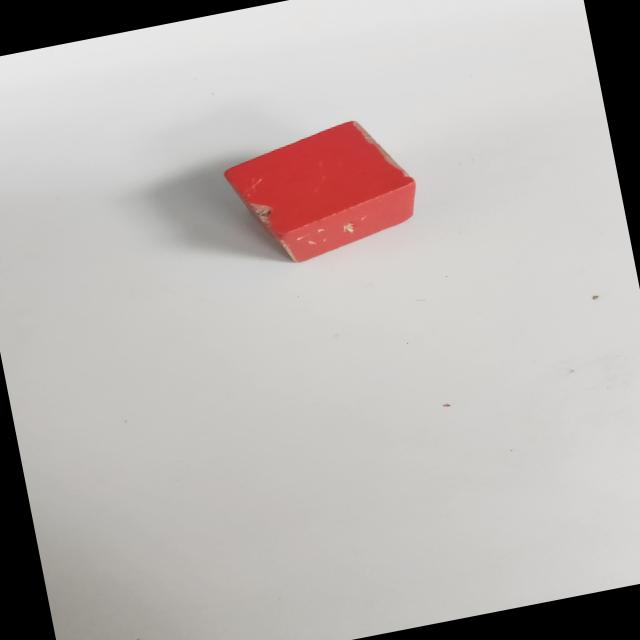broken: (220, 111, 426, 272)
